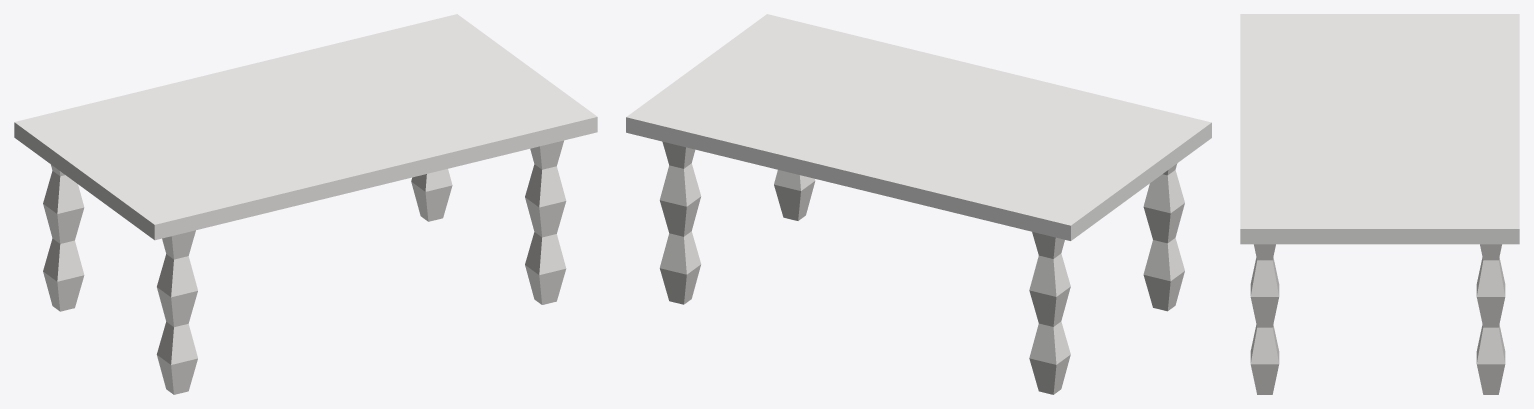
Rendered from Table_11.fbx.
The picture shows the model from 3 angles, left to right: view 1: azimuth 30°, elevation 25°; view 2: azimuth 150°, elevation 25°; view 3: azimuth 270°, elevation 25°; orthographic projection.
Parts seen in each view (by area): view 1: Table_11; view 2: Table_11; view 3: Table_11.
Boxes of the visible parts, box(x1,y1,x2,y2) form: Table_11: box(14, 14, 597, 394); Table_11: box(626, 14, 1211, 394); Table_11: box(1240, 14, 1519, 394).
Size of the model in its own units: 227 by 125 by 89.69.
